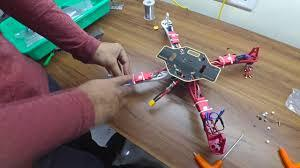drone: (121, 8, 265, 154)
